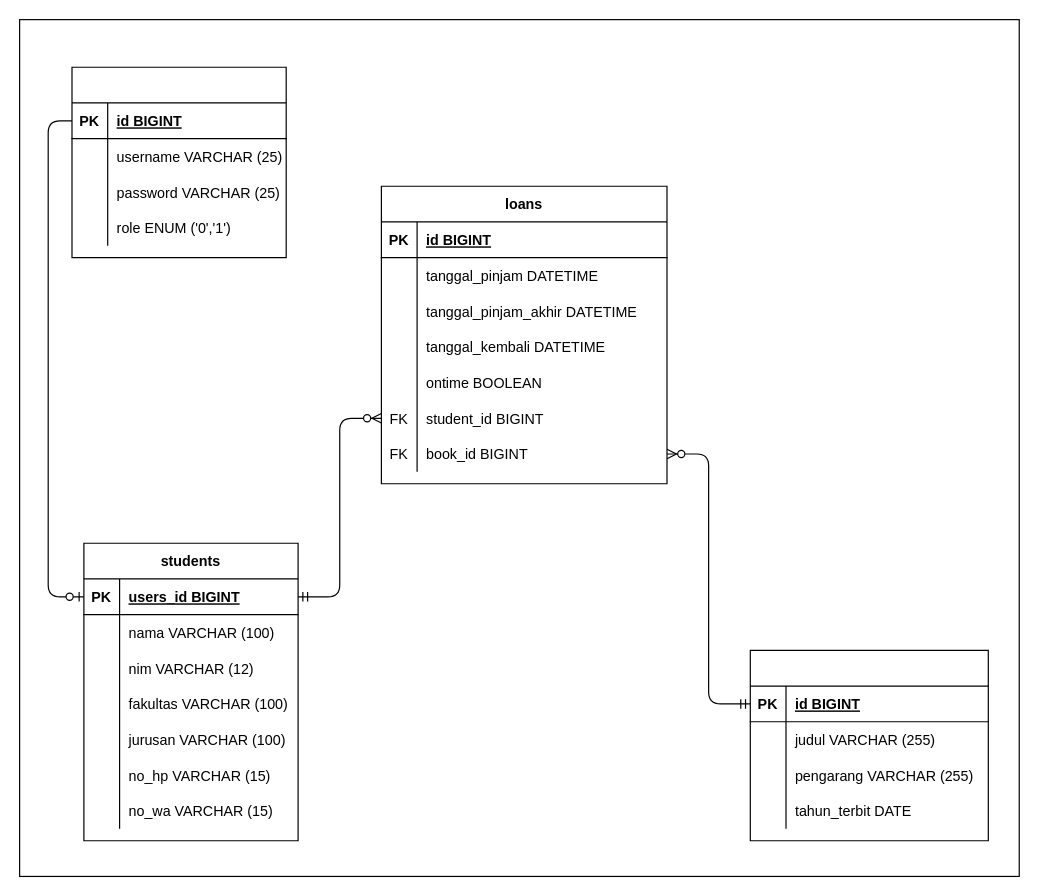
Some shapes in this 1039 by 896 pixel diagram are drawn without their labels. Each missing label, with the box of its shape:
books: (749, 649, 988, 841)
users: (71, 66, 286, 258)
